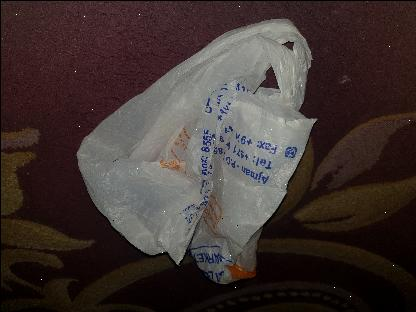Others: (74, 18, 318, 284)
